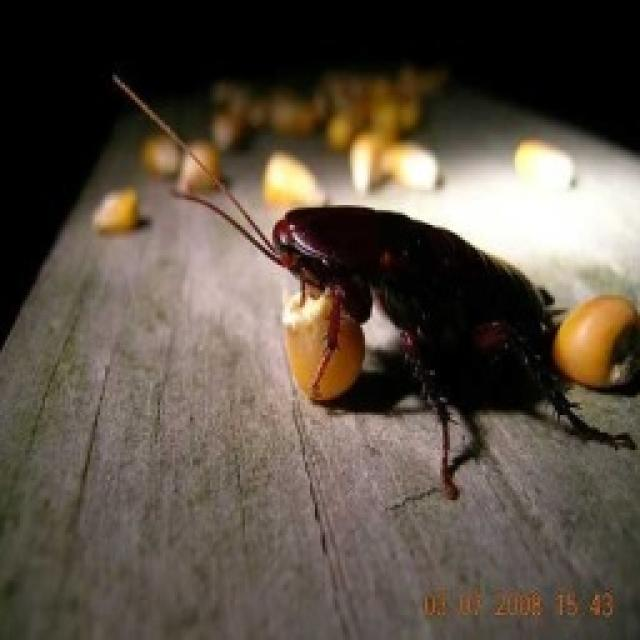cockroach: (105, 68, 637, 510)
